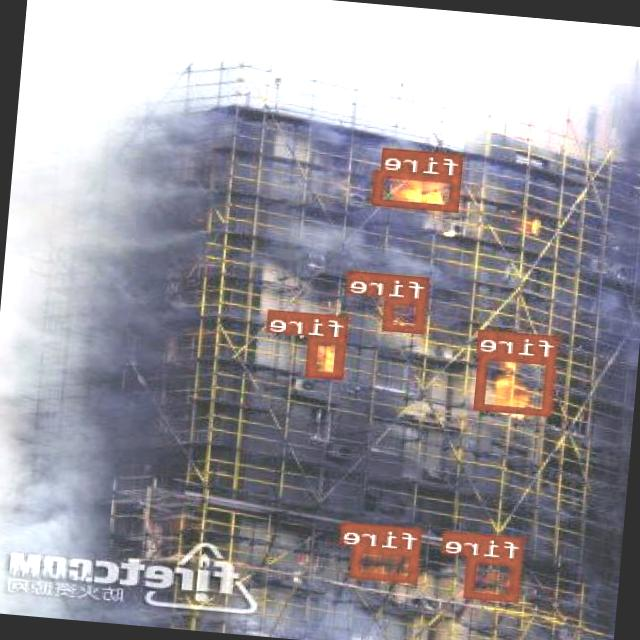fire: (475, 352, 557, 415), (374, 168, 461, 210), (466, 554, 524, 600), (352, 544, 420, 582), (308, 335, 347, 378), (384, 296, 428, 332)
